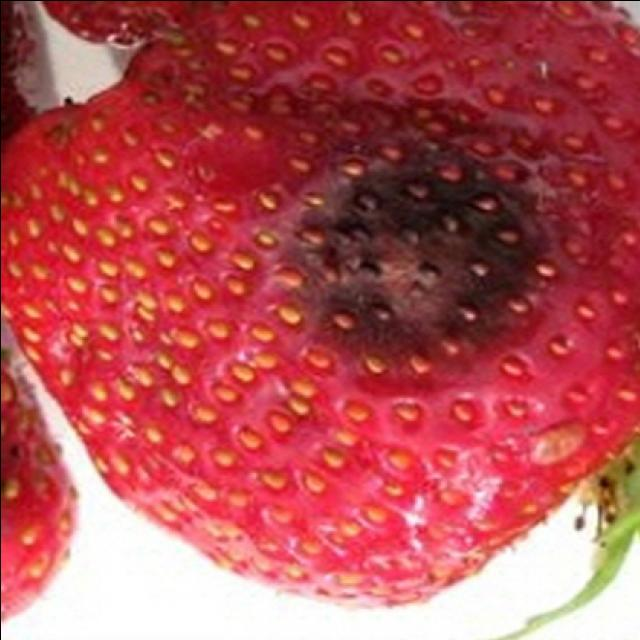Anthracnose Fruit Rot: (267, 111, 565, 397)
